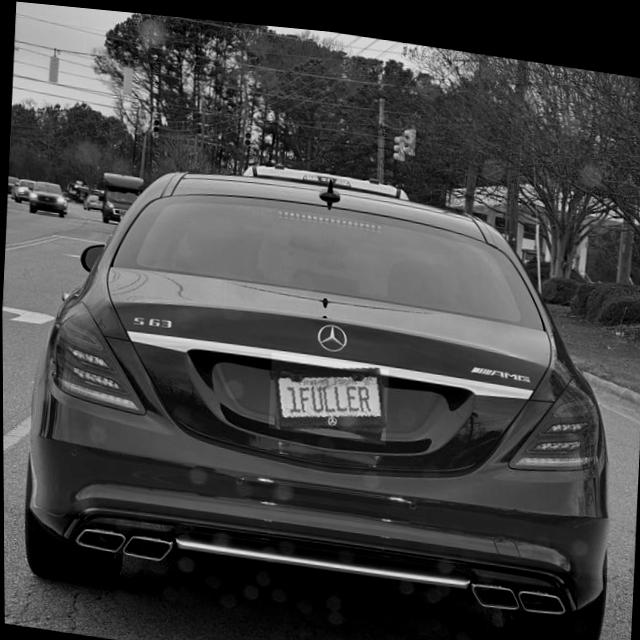LicensePlate: (271, 360, 386, 424)
